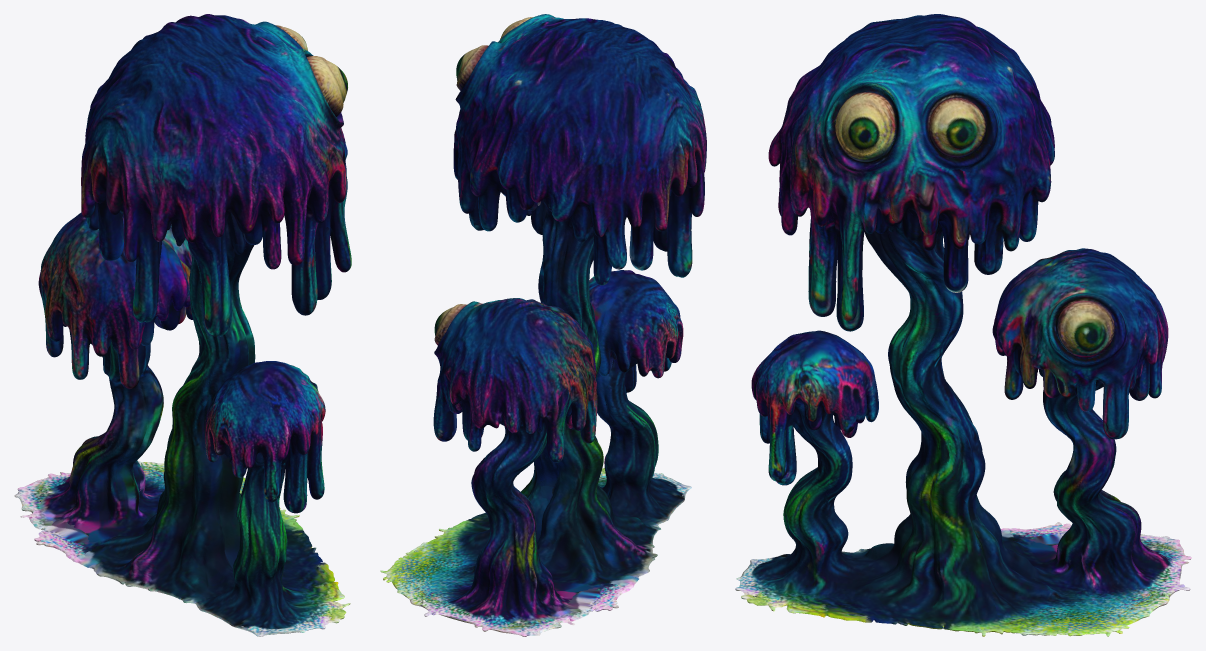
The model's file is SporeClump.glb.
The picture shows the model from 3 angles, left to right: view 1: azimuth 30°, elevation 25°; view 2: azimuth 150°, elevation 25°; view 3: azimuth 270°, elevation 25°; orthographic projection. The views are drawn at different scales.
Parts seen in each view (by area): view 1: tripo_node_657e58f7-a776-41e8-ab60-d33882699088; view 2: tripo_node_657e58f7-a776-41e8-ab60-d33882699088; view 3: tripo_node_657e58f7-a776-41e8-ab60-d33882699088.
Part boxes in pixels (x1,y1,x2,y2): tripo_node_657e58f7-a776-41e8-ab60-d33882699088: (14, 14, 351, 636); tripo_node_657e58f7-a776-41e8-ab60-d33882699088: (380, 14, 706, 636); tripo_node_657e58f7-a776-41e8-ab60-d33882699088: (735, 14, 1191, 636).
Bounding box in the file's own units: 0.4592 × 1 × 0.7473.
Materials: 1 (1 with a texture image).
